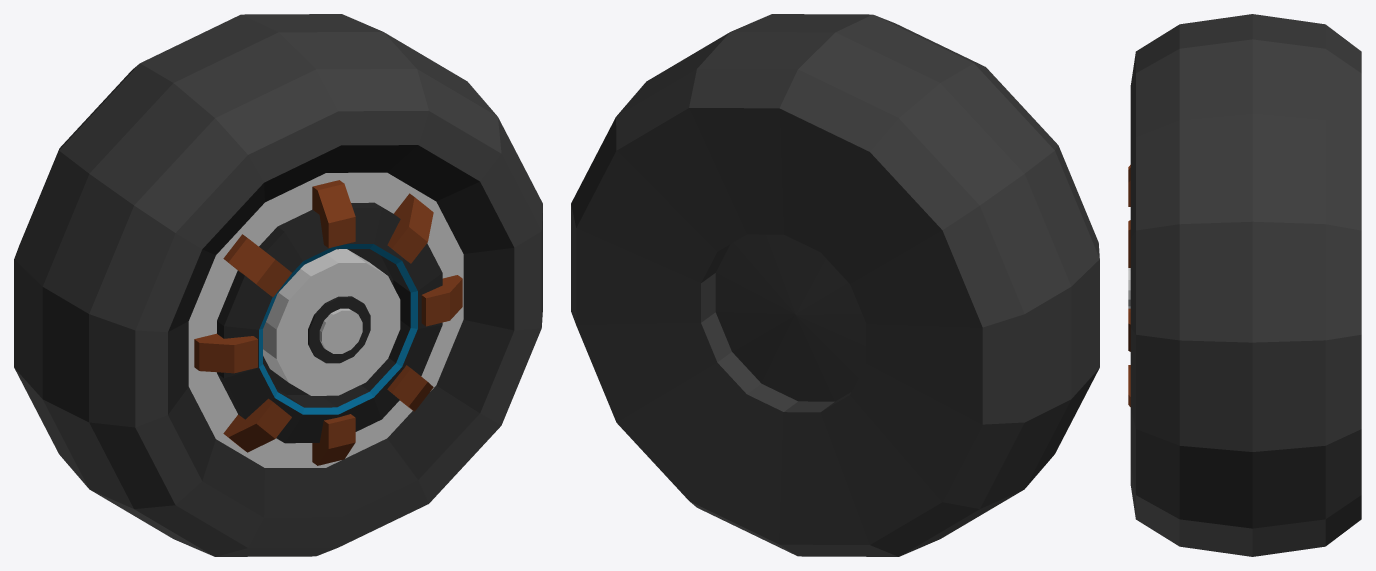
The model's file is wheel38.fbx.
3 renders of one model, left to right at view 1: azimuth 30°, elevation 25°; view 2: azimuth 150°, elevation 25°; view 3: azimuth 270°, elevation 25°, orthographic. The views are drawn at different scales.
Parts seen in each view (by area): view 1: lanot_wheel37_:L; view 2: lanot_wheel37_:L; view 3: lanot_wheel37_:L.
Part boxes in pixels (x1,y1,x2,y2): lanot_wheel37_:L: [14, 14, 542, 556]; lanot_wheel37_:L: [571, 14, 1099, 556]; lanot_wheel37_:L: [1128, 14, 1361, 556].
Bounding box in the file's own units: 152 × 156 × 66.92.
